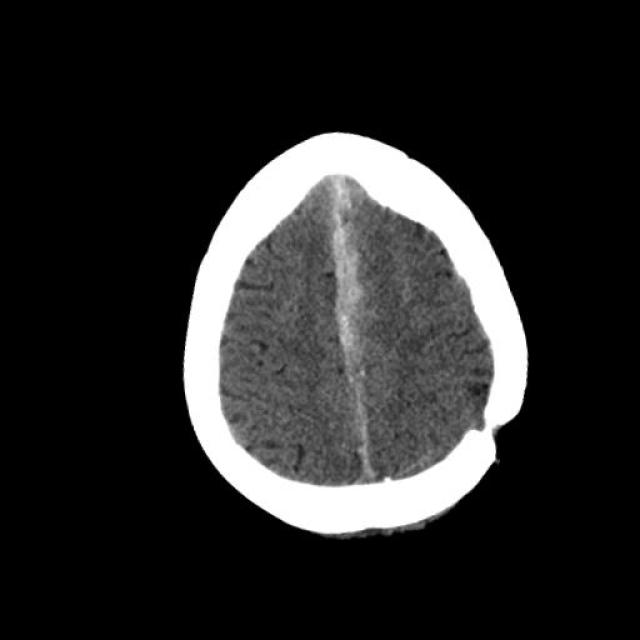Subdural: (294, 159, 411, 505)
